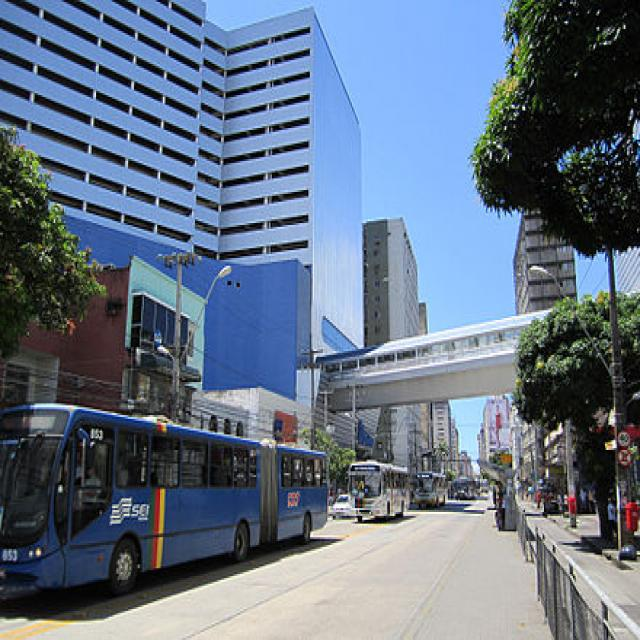AB: (3, 394, 329, 595)
